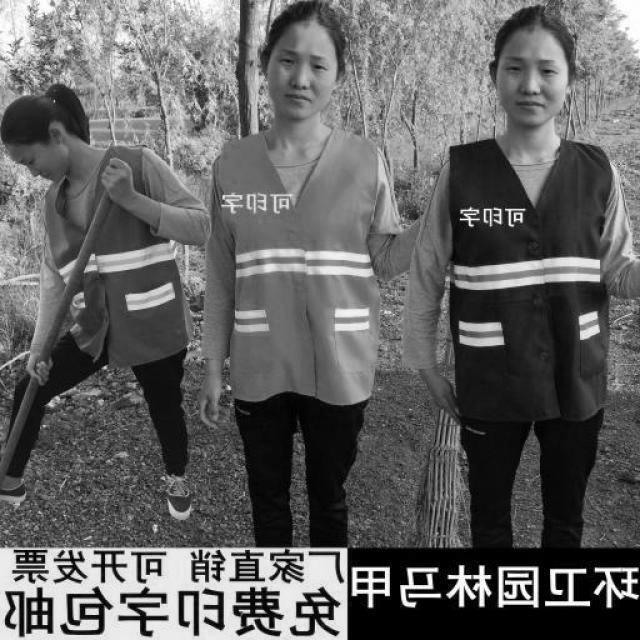10: (386, 5, 640, 550), (188, 0, 397, 543), (0, 82, 210, 530)
11: (443, 136, 616, 420), (225, 126, 394, 402), (47, 140, 176, 356)
7: (196, 371, 233, 429), (100, 156, 141, 208), (424, 366, 459, 420), (20, 348, 58, 389)
8: (258, 0, 349, 118), (487, 4, 576, 124), (0, 84, 91, 183)
helmet_white: (150, 458, 200, 522)
